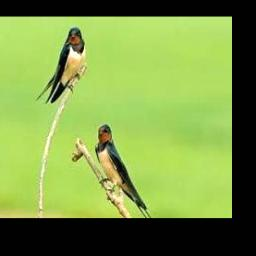Swallow: (95, 124, 152, 218), (37, 27, 87, 104)
